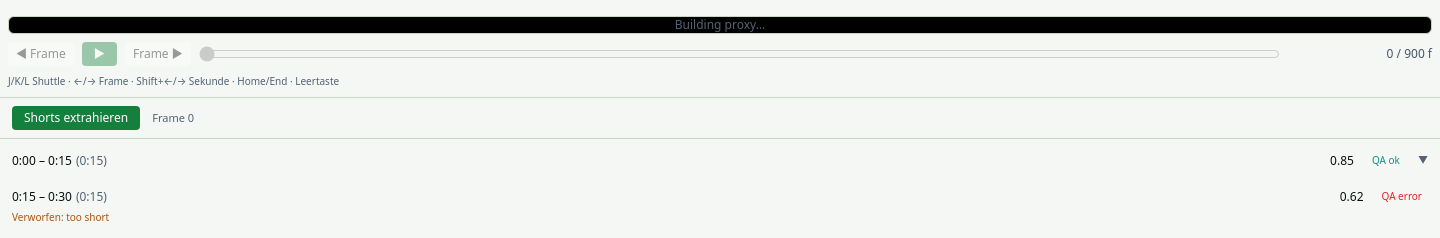
ShortsView › job lifecycle › disables the button and shows the running label while the job is in progress
Expected: the text "0.85" is shown, x1=1330 y1=152 x2=1354 y2=168
Click the button "Shorts extrahieren" at (76, 118), box x1=12 y1=106 x2=140 y2=130
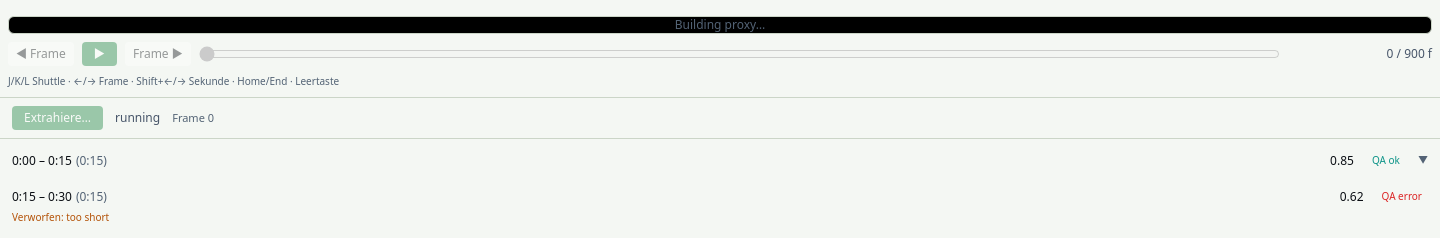
Expected: the button "Extrahiere…" is disabled, x1=12 y1=106 x2=103 y2=130
